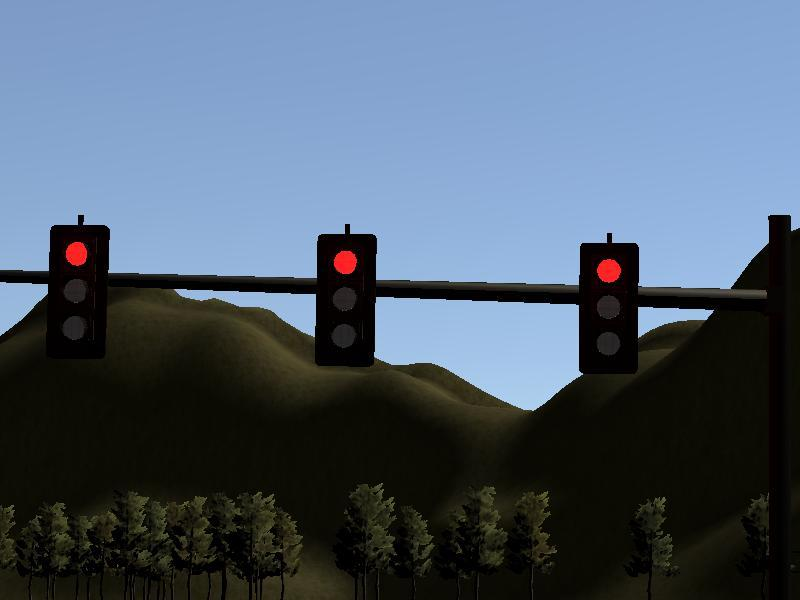Red: (51, 228, 106, 354), (323, 236, 373, 362), (585, 245, 635, 370)
